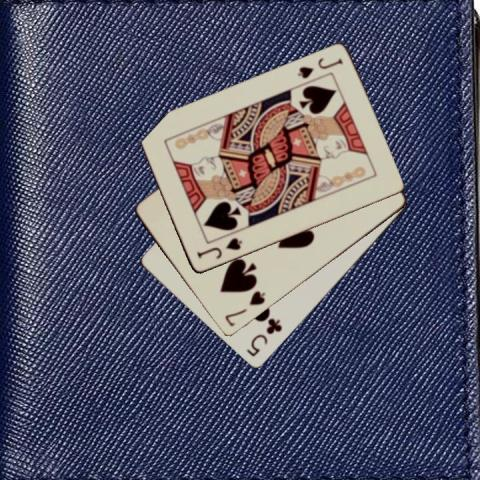5c: (243, 316, 283, 359)
7s: (222, 288, 267, 329)
Js: (193, 236, 244, 262), (295, 54, 344, 80)
